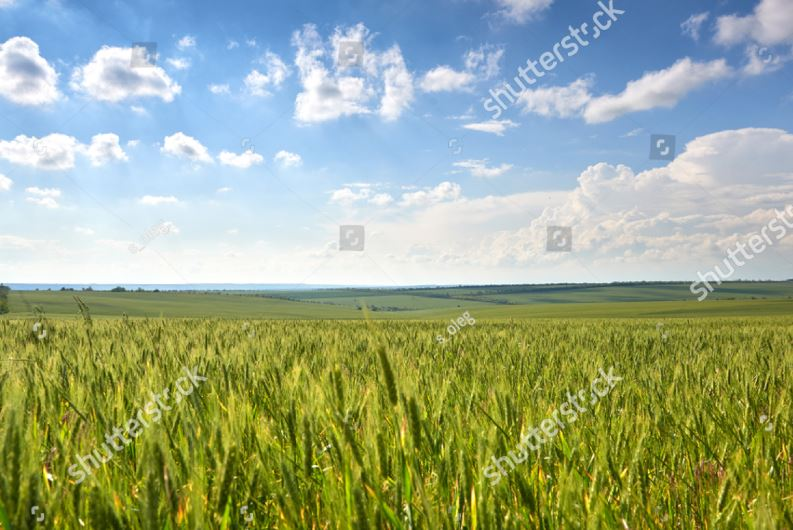Wheat: (261, 336, 793, 472)
